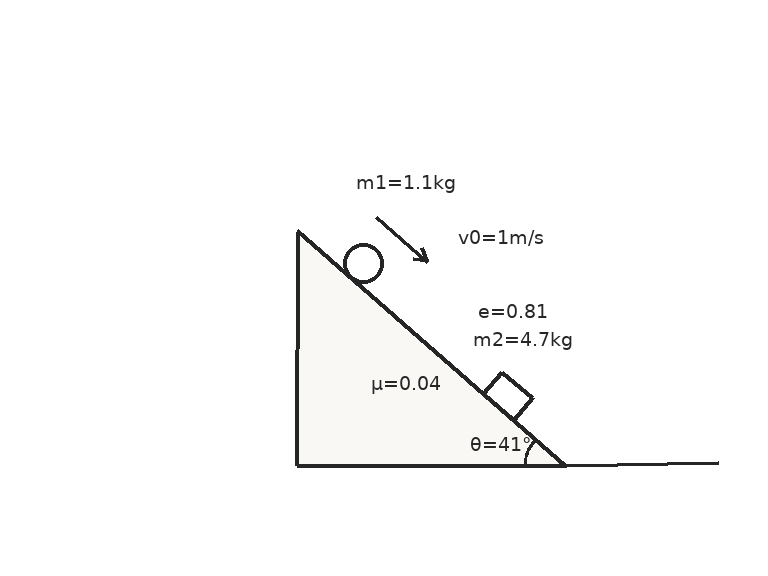ball: (341, 241, 385, 285)
block: (481, 370, 534, 422)
ramp: (294, 229, 567, 467)
